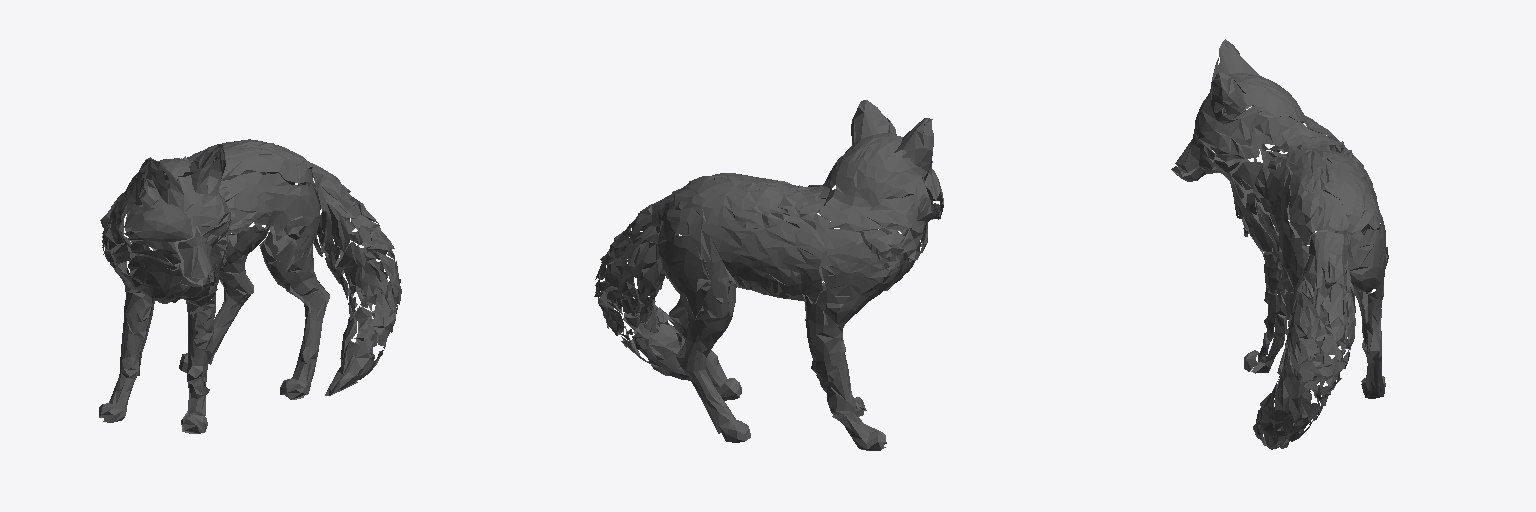
The model's file is debug_quad.obj.
3 renders of one model, left to right at view 1: azimuth 30°, elevation 25°; view 2: azimuth 150°, elevation 25°; view 3: azimuth 270°, elevation 25°, orthographic.
Bounding box in the file's own units: 1.98 × 1.85 × 1.21.